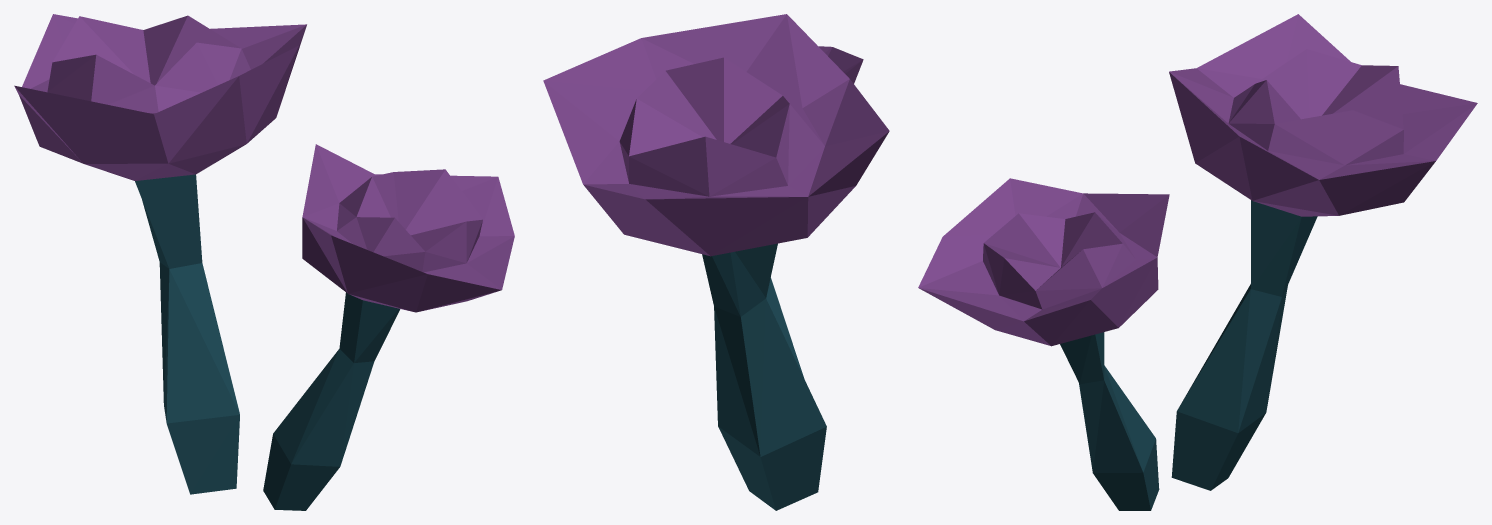
Rendered from SM_Env_Flower_06.fbx.
3 views of the same model, side by side, from view 1: azimuth 30°, elevation 25°; view 2: azimuth 150°, elevation 25°; view 3: azimuth 270°, elevation 25° (orthographic). The views are drawn at different scales.
Parts seen in each view (by area): view 1: SM_Env_Flower_06; view 2: SM_Env_Flower_06; view 3: SM_Env_Flower_06.
Boxes of the visible parts, x1=… form: SM_Env_Flower_06: x1=14, y1=14, x2=514, y2=510; SM_Env_Flower_06: x1=543, y1=14, x2=889, y2=510; SM_Env_Flower_06: x1=918, y1=14, x2=1477, y2=510.
Bounding box in the file's own units: 0.003 × 0.00323 × 0.0039.
Materials: 1 (1 with a texture image).
